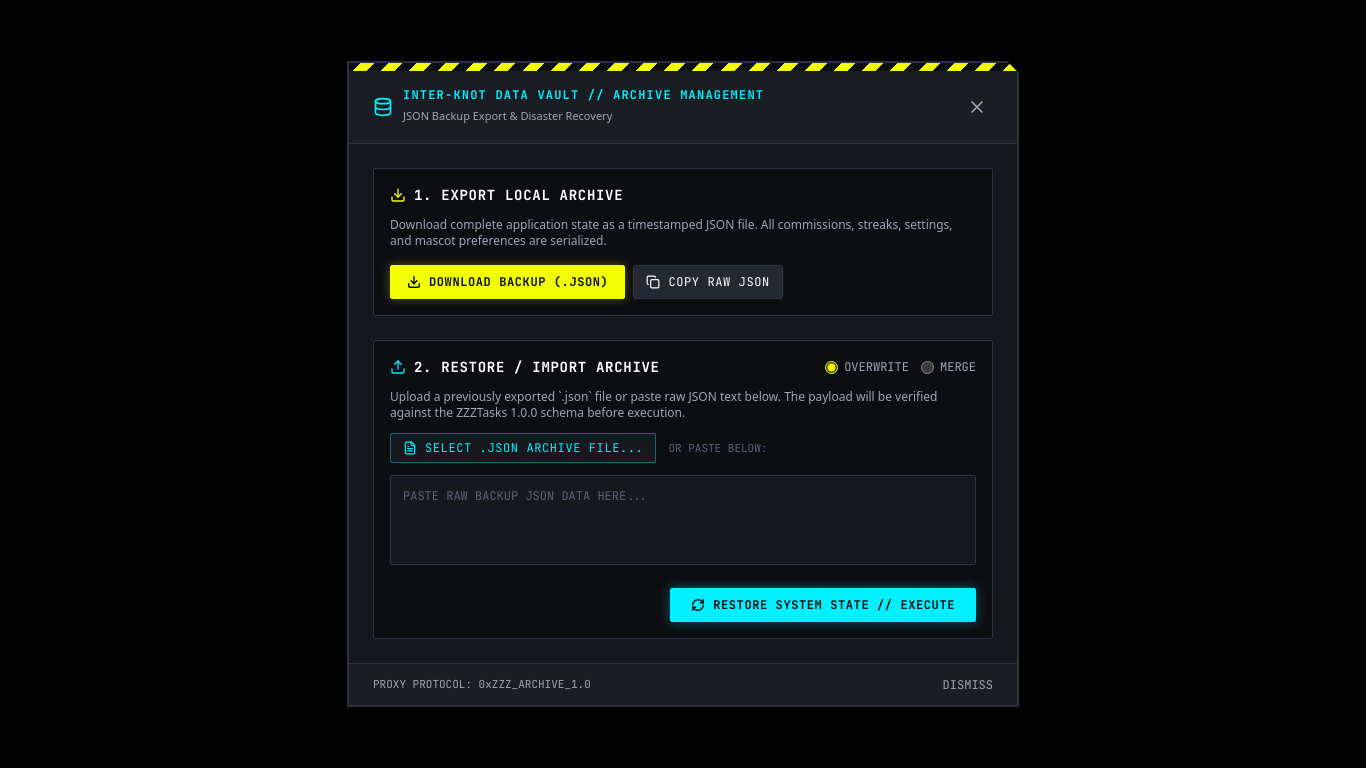
it: BackupModal Component › handles empty backup submission with validation error
Click the button with test id "import-backup-btn" at (823, 605), box [670,588,976,622]
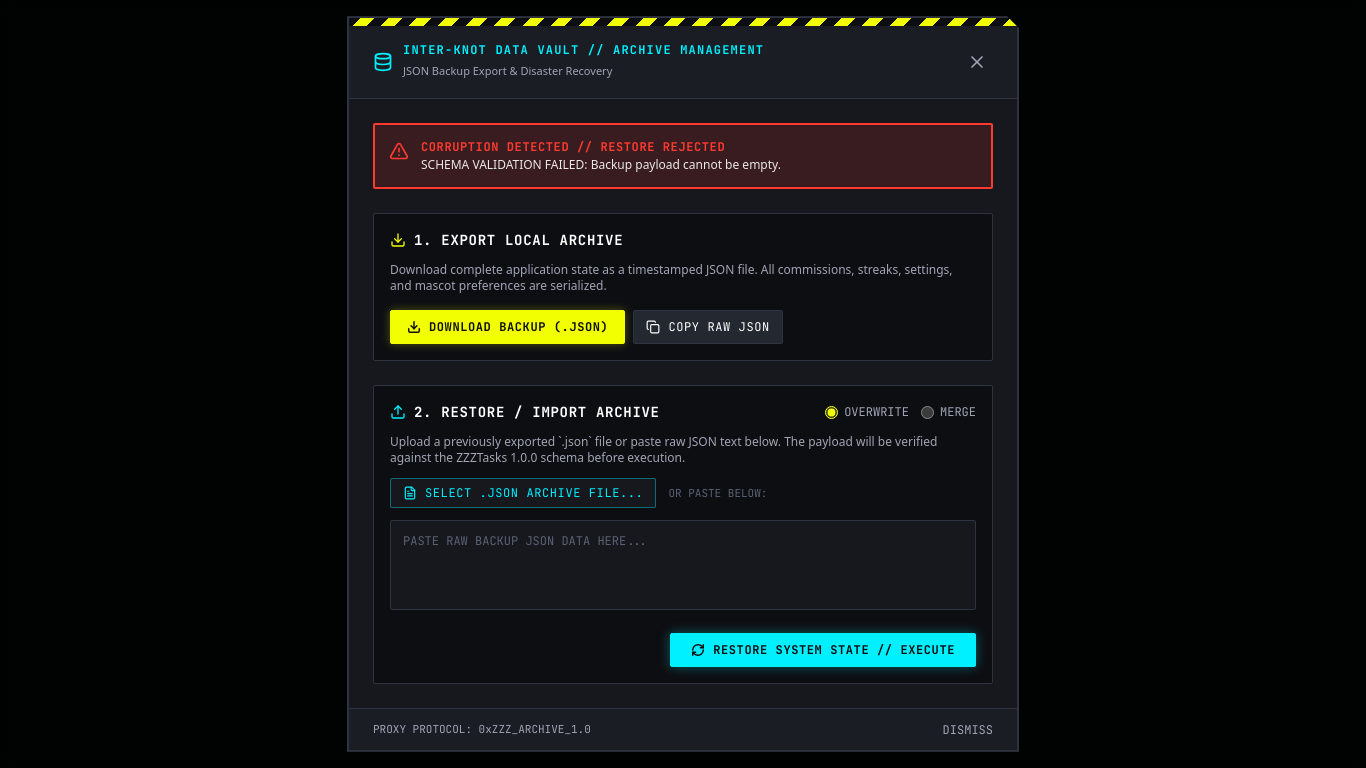
Check: the element with test id "backup-error-alert" is shown, box [373,123,993,189]
